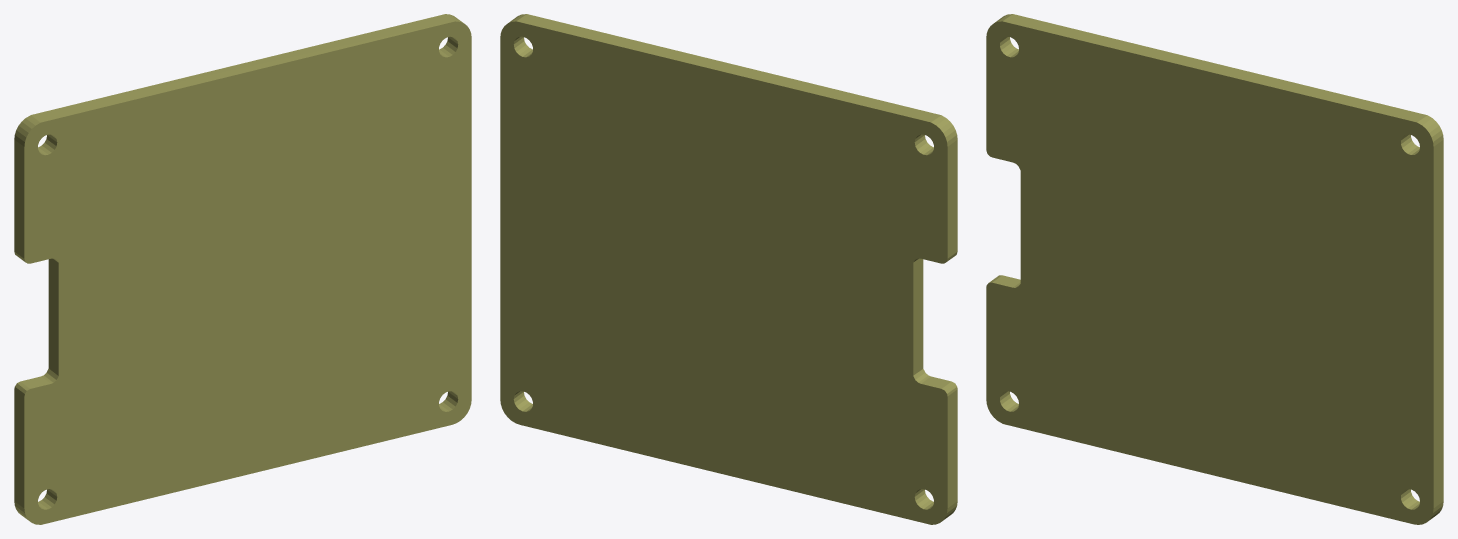
Rendered from OBJ_task10.1-PCB.obj.
3 views of the same model, side by side, from view 1: azimuth 30°, elevation 25°; view 2: azimuth 150°, elevation 25°; view 3: azimuth 330°, elevation 25° (orthographic).
Size of the model in its own units: 255 by 219 by 10.
